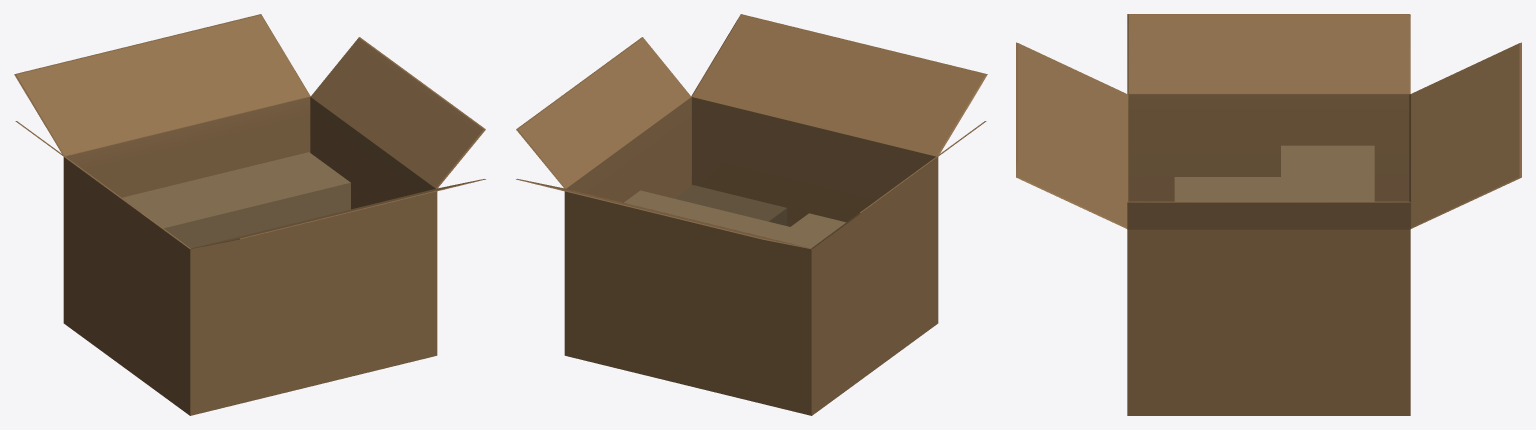
File: pudelko.fbx
3 renders of one model, left to right at view 1: azimuth 30°, elevation 25°; view 2: azimuth 150°, elevation 25°; view 3: azimuth 270°, elevation 25°, orthographic. The views are drawn at different scales.
Parts seen in each view (by area): view 1: duze pudelko, pudelko2; view 2: duze pudelko, pudelko2, pudelko3, pudelko; view 3: duze pudelko, pudelko2, pudelko.
Part boxes in pixels (x1,y1,x2,y2): duze pudelko: (14,14,485,415); pudelko2: (122,152,350,248); duze pudelko: (516,14,987,415); pudelko2: (624,190,827,248); pudelko3: (674,185,787,225); pudelko: (791,213,845,235); duze pudelko: (1016,14,1521,415); pudelko2: (1281,145,1374,201); pudelko: (1174,177,1280,201).
Bounding box in the file's own units: 145 × 86 × 164.
